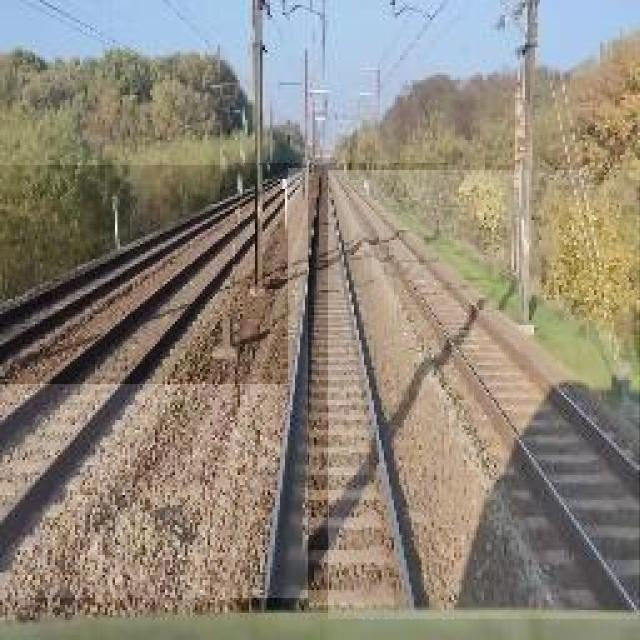rail: (330, 171, 640, 620), (1, 169, 309, 599), (236, 165, 449, 614), (1, 167, 289, 385)
